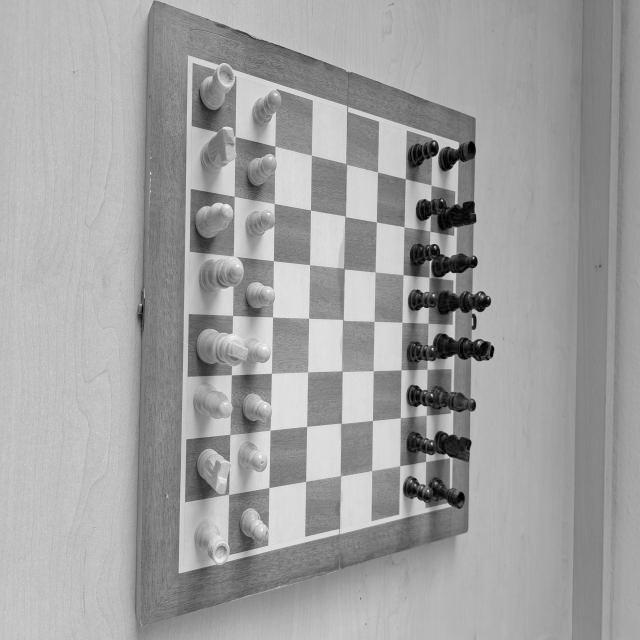chess-table-corners: (175, 555, 192, 576), (184, 53, 201, 74), (443, 494, 455, 511), (450, 138, 462, 154)
